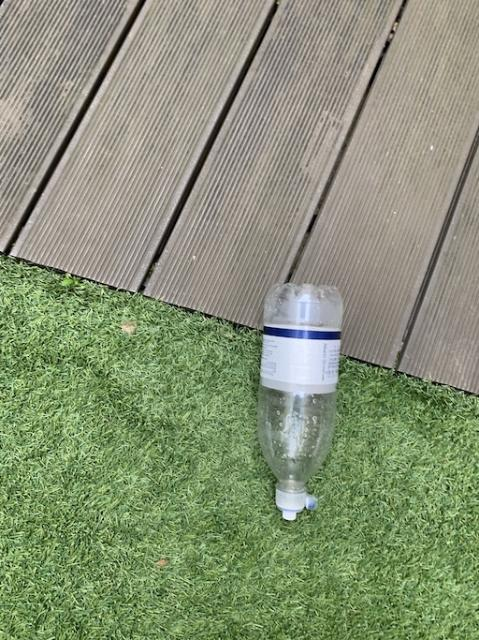plastic: (258, 283, 341, 519)
